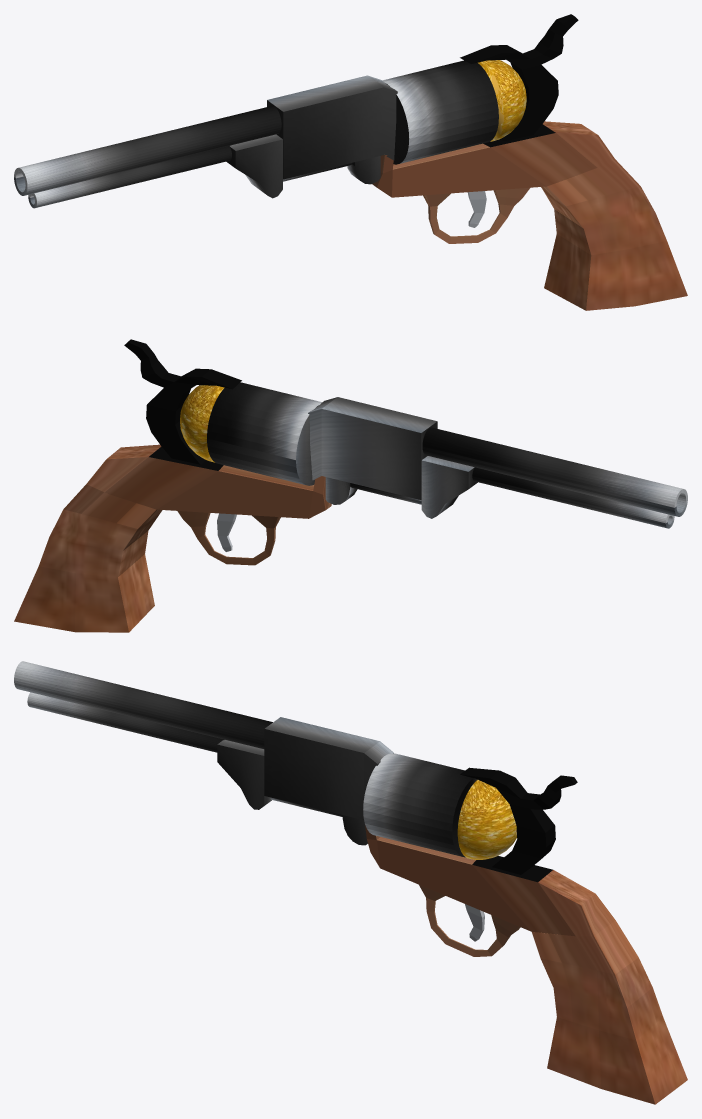
The model's file is guns.fbx.
The picture shows the model from 3 angles, top to bottom: view 1: azimuth 30°, elevation 25°; view 2: azimuth 150°, elevation 25°; view 3: azimuth 330°, elevation 25°; orthographic projection.
Visible parts, largest first — view 1: Cylinder.005; view 2: Cylinder.005; view 3: Cylinder.005.
Boxes of the visible parts, box(x1,y1,x2,y2) form: Cylinder.005: box(14, 14, 687, 310); Cylinder.005: box(14, 339, 687, 632); Cylinder.005: box(14, 661, 687, 1104).
Bounding box in the file's own units: 959 × 412 × 110.
Materials: 3 (3 with a texture image).
